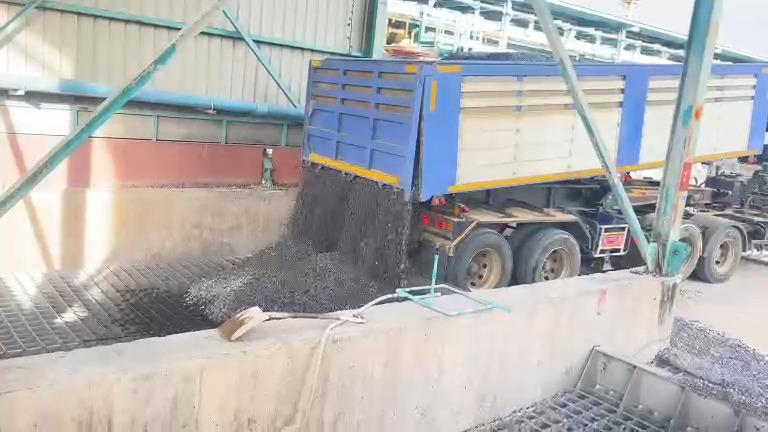gravel: (186, 168, 410, 321), (654, 318, 767, 416), (442, 51, 554, 60)
